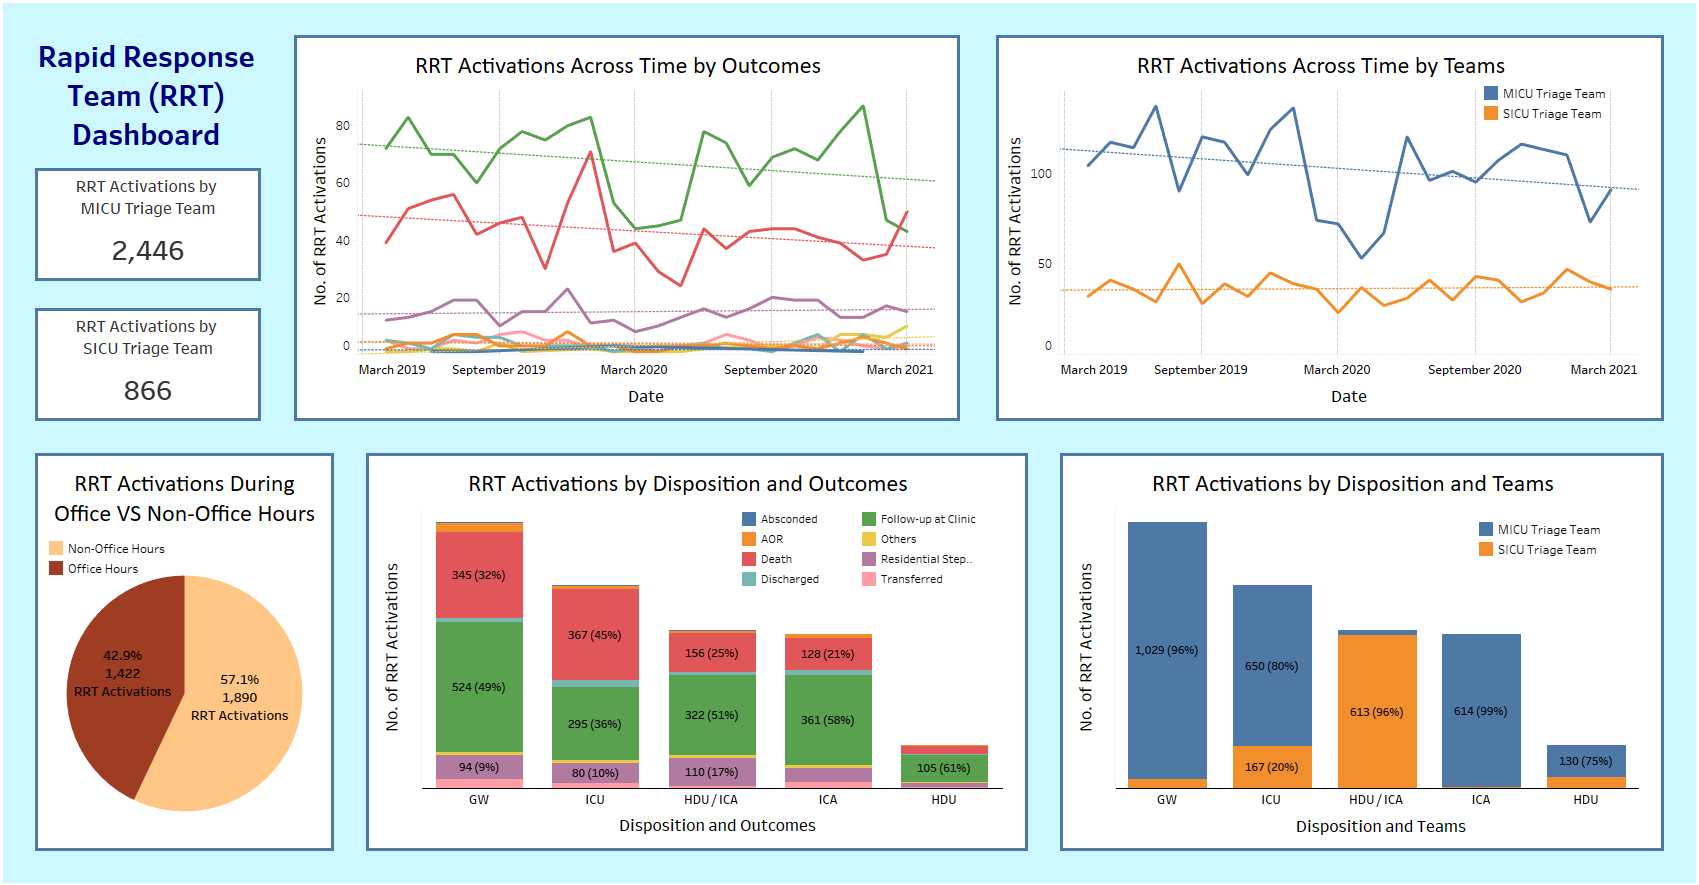

This screenshot's page, from the dashboard's own definition file:
{"tool":"tableau","page":{"name":"RRT Dashboard","canvas":[1366,768],"ordinal":0},"visuals":[{"type":"text","box":[33.3,35.3,210.9,111]},{"type":"worksheet","title":"Time and Outcomes","mark":"Line","rows":["Case No"],"cols":["Authored Date"],"box":[276,35.3,511,329.8]},{"type":"worksheet","title":"Time and Teams","mark":"Line","rows":["Case No"],"cols":["Authored Date"],"box":[819,35.3,513.1,329.8]},{"type":"legend","title":"Time and Teams","param":"[federated.1ithxne00wjvnn10rokc008ulvwi].[none:Teams:nk]","box":[1159,81,132,43]},{"type":"worksheet","title":"KPI Card","mark":"Automatic","box":[33.3,171.3,210.9,85]},{"type":"worksheet","title":"KPI Card 2","mark":"Automatic","box":[33.3,281.3,210.9,83.8]},{"type":"worksheet","title":"Office VS Non-Office Hour","mark":"Pie","box":[33.3,392.7,282,340]},{"type":"worksheet","title":"Disposition and Outcomes","mark":"Bar","rows":["Case No"],"cols":["Disposition"],"box":[341.3,392.7,496,340]},{"type":"worksheet","title":"Disposition and Teams","mark":"Bar","rows":["Case No"],"cols":["Disposition"],"box":[869.3,392.7,462.7,340]},{"type":"legend","title":"Disposition and Outcomes","param":"[federated.1ithxne00wjvnn10rokc008ulvwi].[none:Outcome:nk]","box":[603,445,208,91]},{"type":"legend","title":"Disposition and Teams","param":"[federated.1ithxne00wjvnn10rokc008ulvwi].[none:Teams:nk]","box":[1141,454,138,46]},{"type":"legend","title":"Office VS Non-Office Hour","param":"[federated.1ithxne00wjvnn10rokc008ulvwi].[none:Hour:nk]","box":[44,459,138,44]},{"type":"text","box":[501,704,201,22]},{"type":"text","box":[1027,704,177,22]}]}

Visuals, with their boxes in screenshot pixels (x1, y1, x2, y2):
text: locate(128, 28, 376, 159)
"Time and Outcomes" worksheet (Line marks): locate(414, 28, 1016, 417)
"Time and Teams" worksheet (Line marks): locate(1053, 28, 1658, 417)
"Time and Teams" legend: locate(1454, 82, 1609, 133)
"KPI Card" worksheet: locate(128, 189, 376, 289)
"KPI Card 2" worksheet: locate(128, 318, 376, 417)
"Office VS Non-Office Hour" worksheet (Pie marks): locate(128, 449, 460, 850)
"Disposition and Outcomes" worksheet (Bar marks): locate(491, 449, 1075, 850)
"Disposition and Teams" worksheet (Bar marks): locate(1113, 449, 1658, 850)
"Disposition and Outcomes" legend: locate(799, 511, 1044, 618)
"Disposition and Teams" legend: locate(1433, 522, 1595, 576)
"Office VS Non-Office Hour" legend: locate(140, 527, 303, 579)
text: locate(679, 816, 915, 842)
text: locate(1298, 816, 1507, 842)
